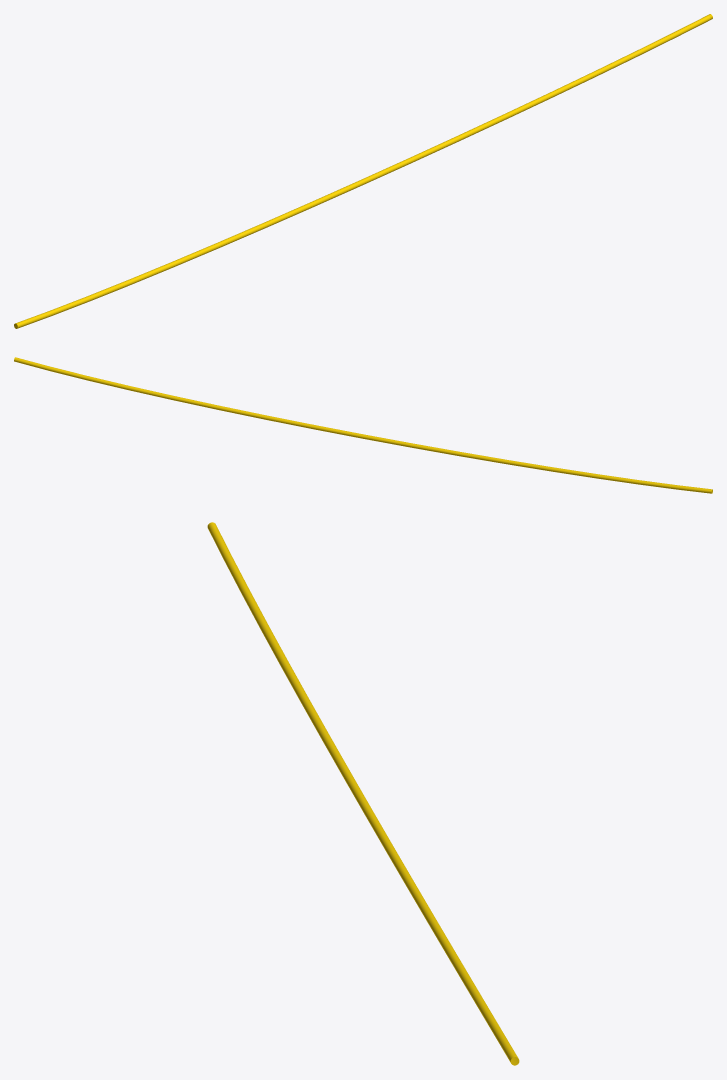
The model's file is Event_421115418_track_64.fbx.
3 views of the same model, one above another, from view 1: azimuth 30°, elevation 25°; view 2: azimuth 150°, elevation 25°; view 3: azimuth 270°, elevation 25° (orthographic). The views are drawn at different scales.
Visible parts, largest first — view 1: Model; view 2: Model; view 3: Model.
Boxes of the visible parts, x1,y1,x2,y2 form: Model: [14, 14, 712, 328]; Model: [14, 357, 712, 493]; Model: [207, 522, 519, 1065].
Size of the model in its own units: 6.41 by 0.3993 by 1.39.
